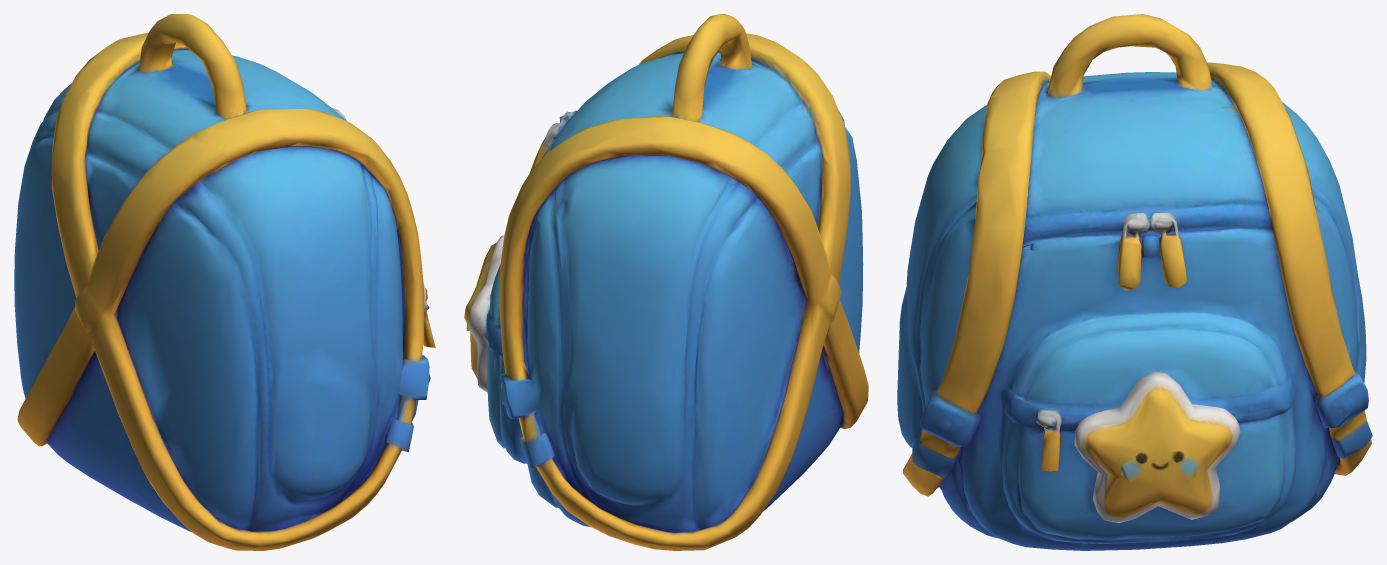
Rendered from schoolbag.glb.
3 views of the same model, side by side, from view 1: azimuth 30°, elevation 25°; view 2: azimuth 150°, elevation 25°; view 3: azimuth 270°, elevation 25° (orthographic). The views are drawn at different scales.
Visible parts, largest first — view 1: tripo_node_4fe02d77-4d38-472f-8104-7a5b025a01e5; view 2: tripo_node_4fe02d77-4d38-472f-8104-7a5b025a01e5; view 3: tripo_node_4fe02d77-4d38-472f-8104-7a5b025a01e5.
Part boxes in pixels (x1,y1,x2,y2): tripo_node_4fe02d77-4d38-472f-8104-7a5b025a01e5: (14,14,435,550); tripo_node_4fe02d77-4d38-472f-8104-7a5b025a01e5: (464,14,868,550); tripo_node_4fe02d77-4d38-472f-8104-7a5b025a01e5: (897,14,1372,550).
Size of the model in its own units: 0.2277 by 0.3 by 0.2682.
Materials: 1 (1 with a texture image).
